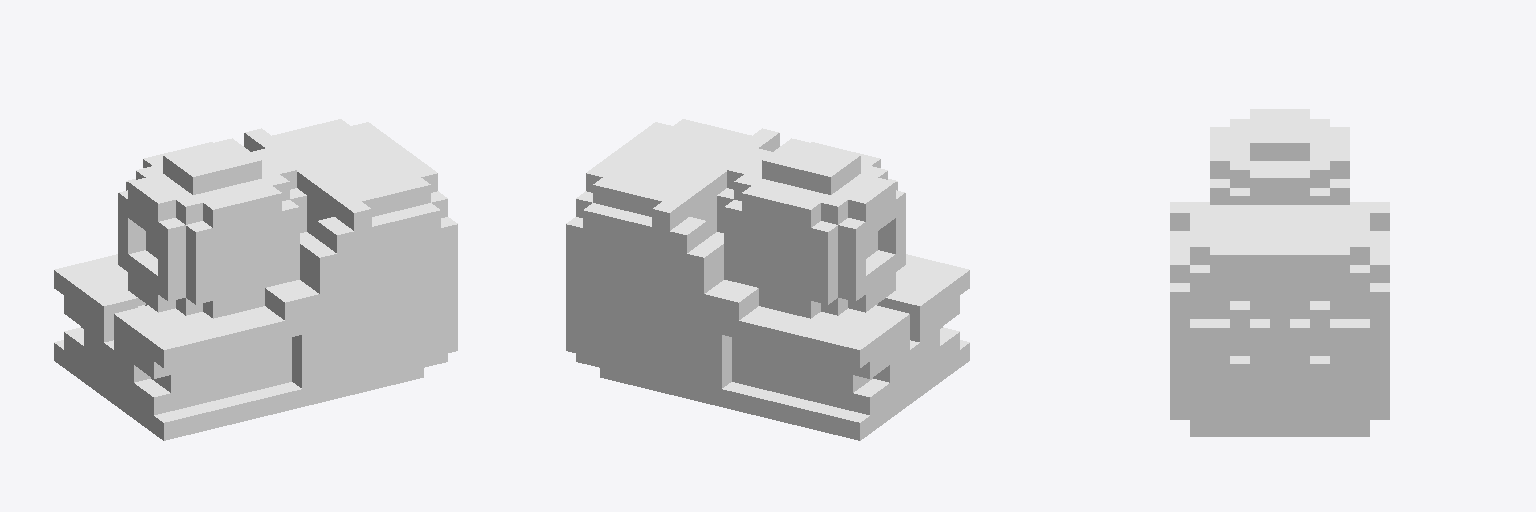
Rendered from Idle.obj.
3 views of the same model, side by side, from view 1: azimuth 30°, elevation 25°; view 2: azimuth 150°, elevation 25°; view 3: azimuth 270°, elevation 25° (orthographic).
Visible parts, largest first — view 1: object 1; view 2: object 1; view 3: object 1.
Part boxes in pixels (x1,y1,x2,y2): object 1: (54,119,457,440); object 1: (566,119,969,440); object 1: (1170,109,1389,436).
Size of the model in its own units: 1.7 by 1.2 by 1.1.